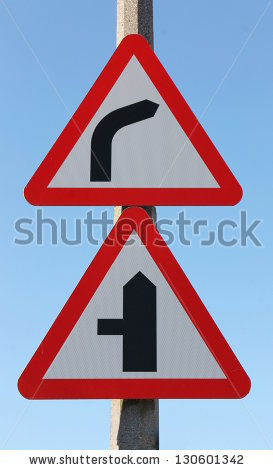Bend_to_right: (23, 30, 243, 213)
